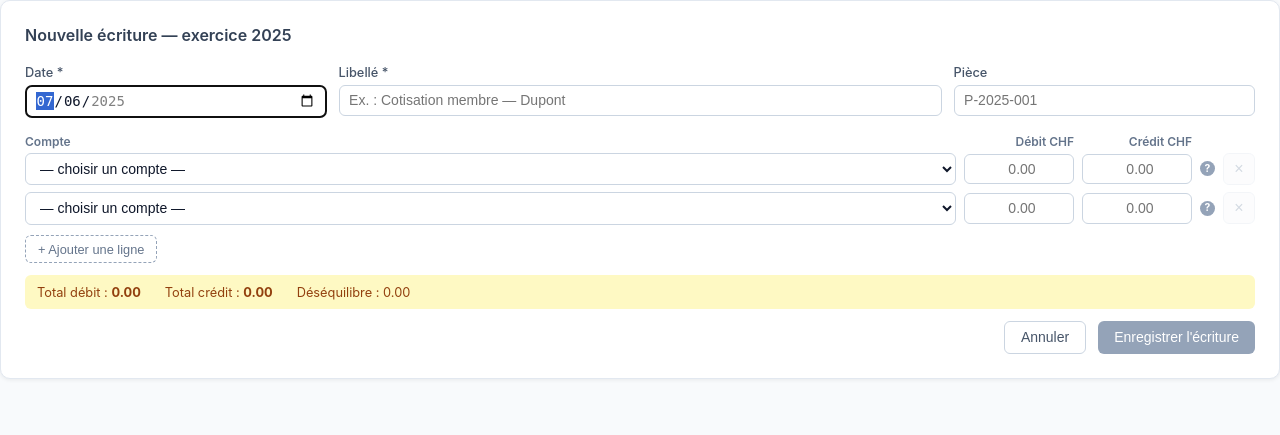
EntryForm — gestion des lignes › ajoute une ligne avec le bouton + Ajouter une ligne
Click the button "+ Ajouter une ligne" at [91, 249], box [25,235,157,263]
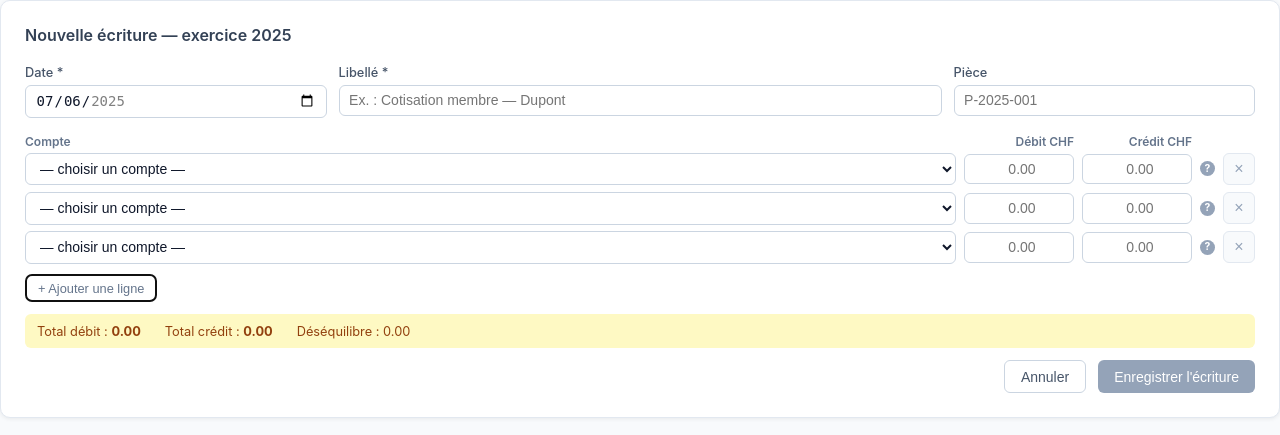
Result: the number of dropdowns is 3 at [25,153,956,185]; [25,192,956,225]; [25,231,956,264]
